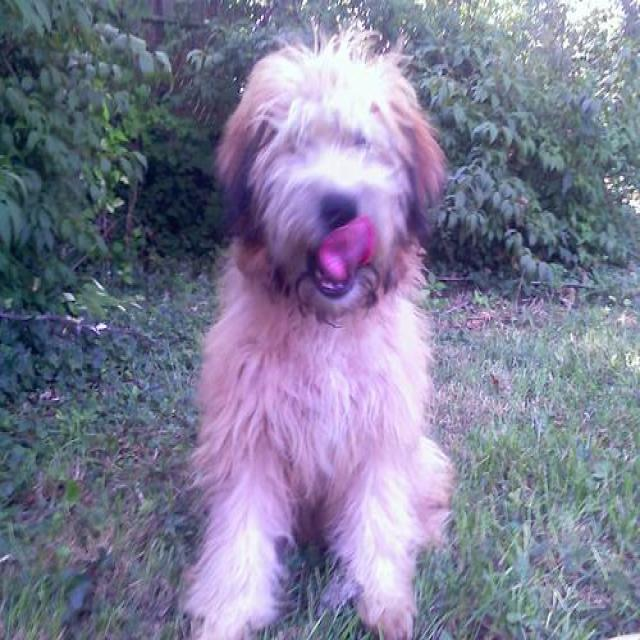happy: (212, 22, 453, 380)
